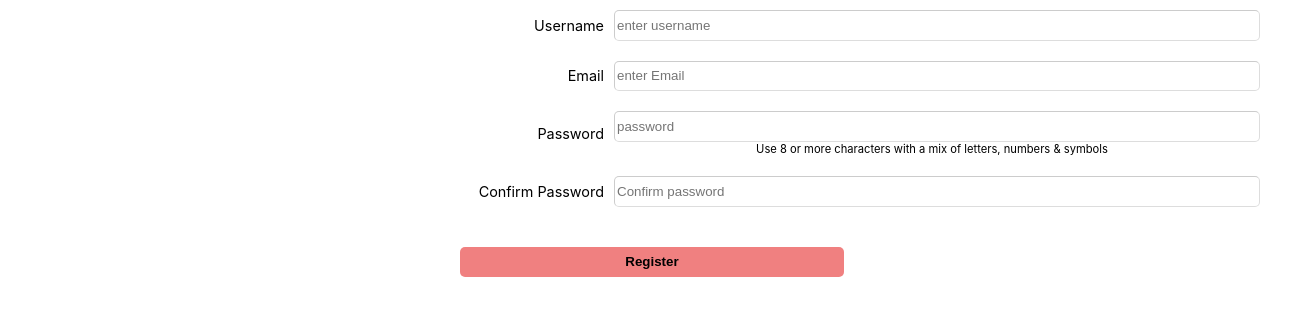
Test case: RegsiterCompoent › should render error message and not redirect after failed registration
This screenshot has width=1292, height=329.
Check: the text "Username" is shown, box [534,17,604,34]
Check: the text "Email" is shown, box [568,68,604,84]
Type "someUser" into the field labelled "Username" at [937, 25], box [614,10,1260,41]
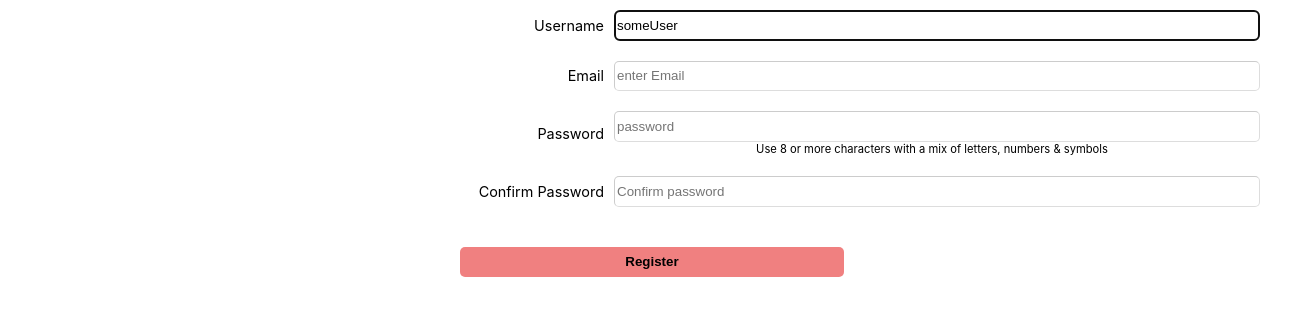
Type "some@email.com" into the field labelled "Email" at [937, 76], box [614,61,1260,91]
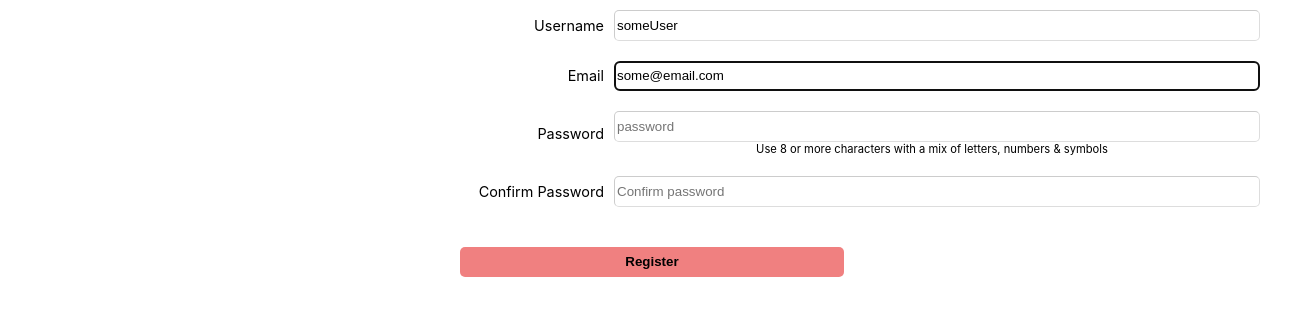
Type "somePass1234!" into the password field labelled "Password" at [937, 127], box [614,111,1260,142]
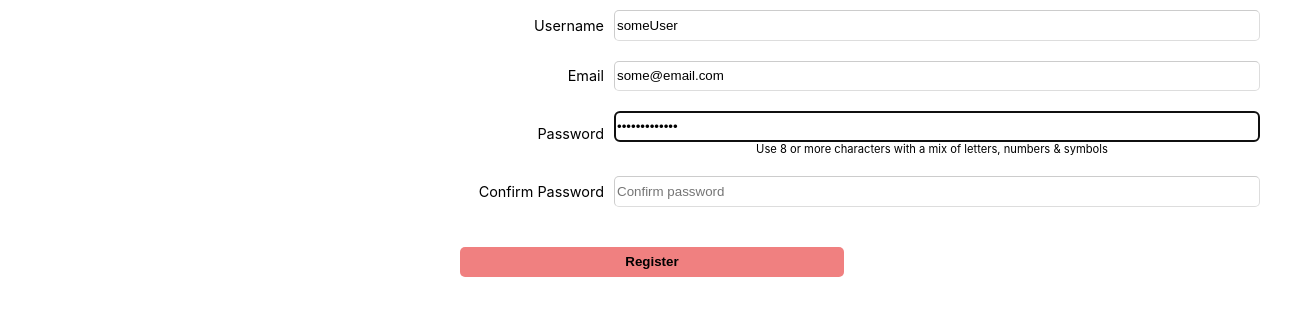
Type "somePass1234!" into the password field labelled "Confirm Password" at [937, 191], box [614,176,1260,207]
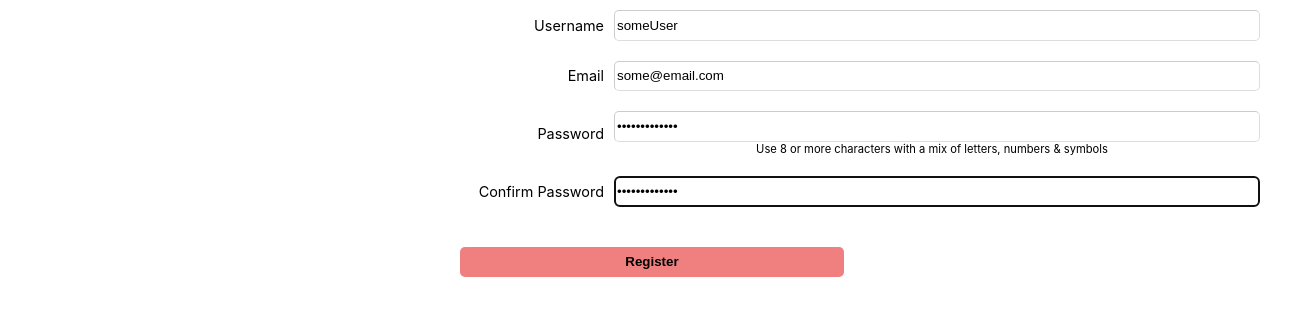
Click the button at [652, 262], box [460,247,844,277]
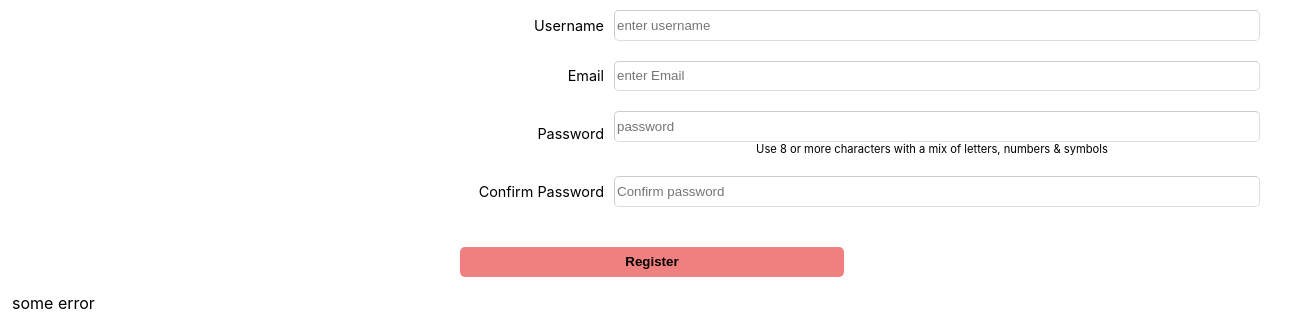
Check: the text "some error" is shown, box [12,293,95,313]
